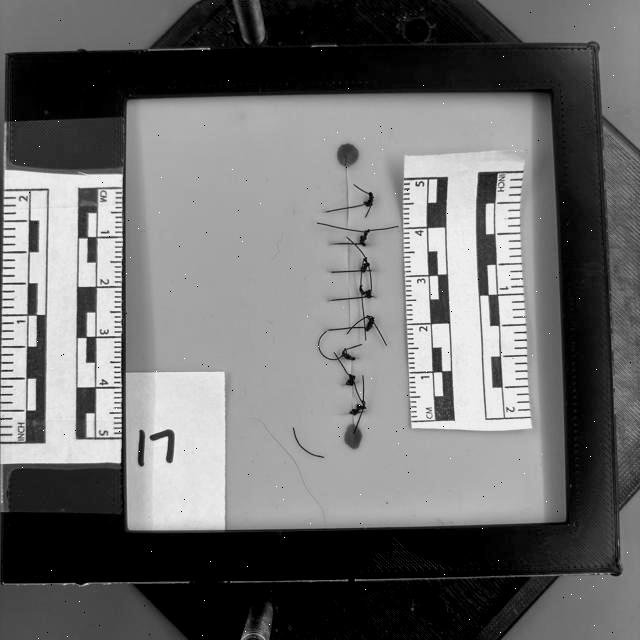incision_line: (342, 152, 359, 438)
scale_marker: (404, 228, 426, 274)
suture_d: (344, 298, 362, 328), (344, 326, 361, 356), (342, 208, 354, 245), (343, 242, 355, 270), (344, 270, 355, 300)
suture_l: (322, 202, 348, 218), (325, 322, 350, 338), (326, 292, 350, 307), (326, 265, 349, 278), (326, 238, 349, 250)
suture_r: (349, 290, 369, 305), (348, 199, 368, 213), (350, 321, 369, 335), (349, 265, 366, 278), (349, 238, 363, 250)
